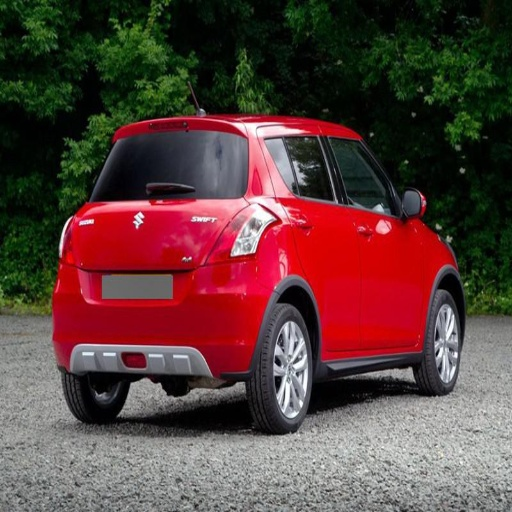back_bumper: (56, 257, 273, 384)
back_right_door: (265, 129, 367, 355)
trunk: (75, 198, 234, 317)
